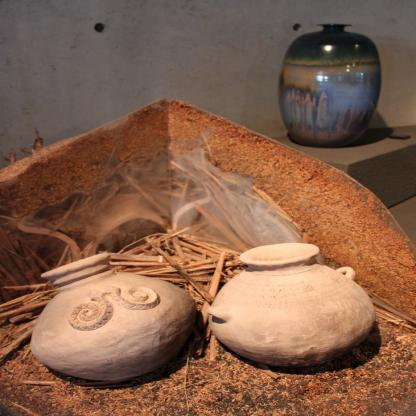vase: (276, 22, 382, 145)
